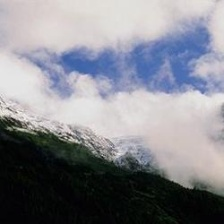neutral: (1, 5, 224, 220)
